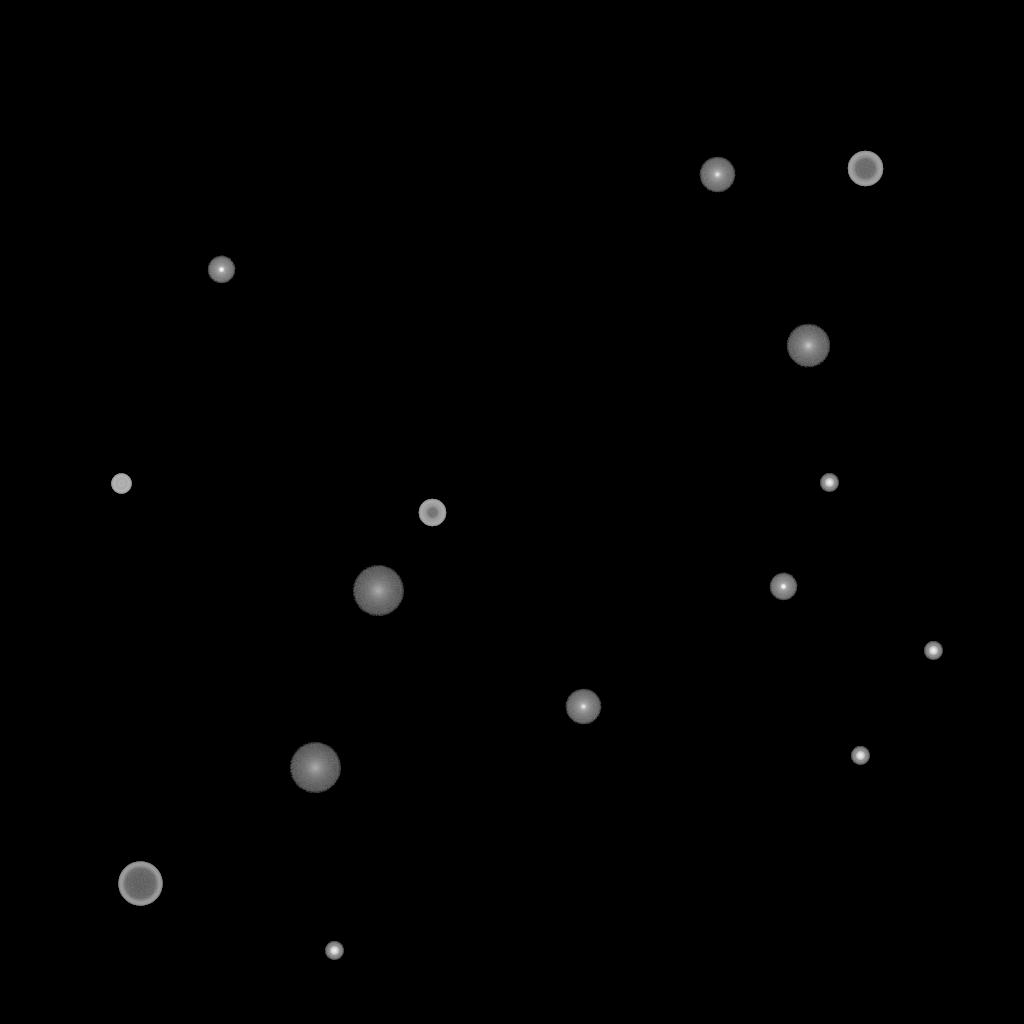depth:-10: (207, 256, 235, 284), (769, 573, 797, 601)
depth:-20: (851, 747, 869, 765), (325, 942, 343, 960), (820, 474, 838, 492), (924, 642, 942, 660)
depth:-40: (111, 474, 131, 494)
depth:-50: (418, 499, 446, 527)
depth:-60: (847, 151, 883, 187)
depth:-70: (118, 862, 162, 906)
depth:0: (699, 157, 735, 193), (565, 689, 601, 725)
depth:10: (786, 324, 830, 368)
depth:20: (352, 566, 404, 616), (289, 743, 341, 793)
